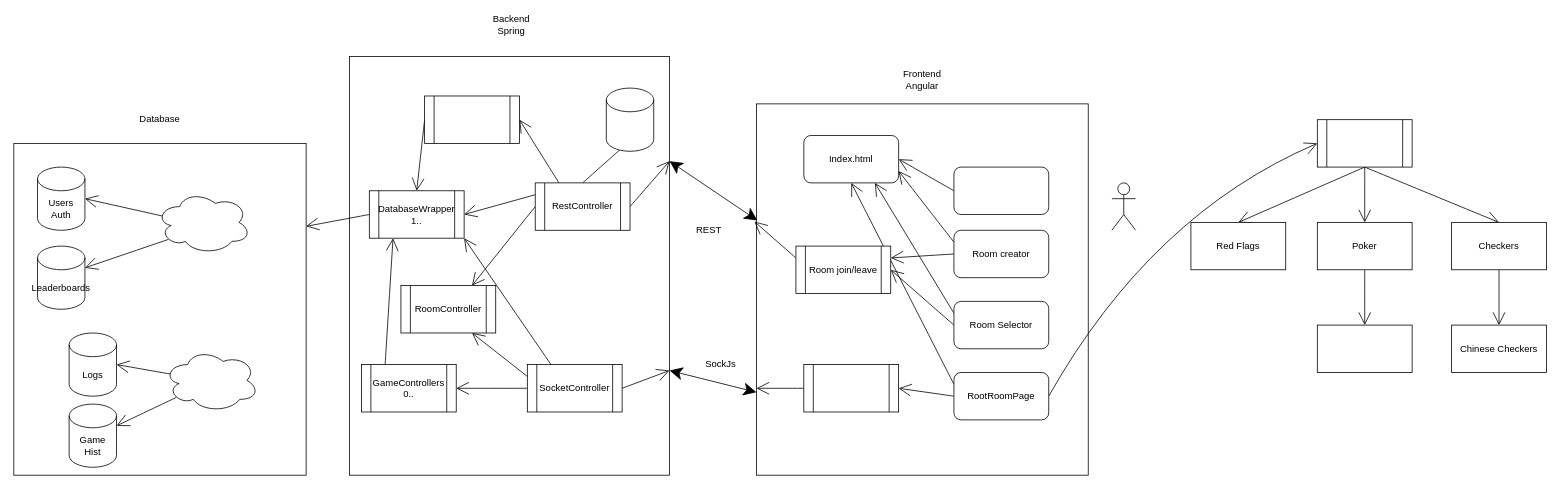
This 1560x489 diagram has some shape labels left out. Here are the shapes that lost their labels. From the top down, the centre of each, then its label:
pixel 471 119: Logincontroller
pixel 630 119: Resource
pixel 1364 143: Games
pixel 1001 190: Front Page
pixel 1123 206: Actor
pixel 203 222: SQL Cloud
pixel 1364 348: Blackjack
pixel 211 380: MongoDb
pixel 851 388: SockJSService
